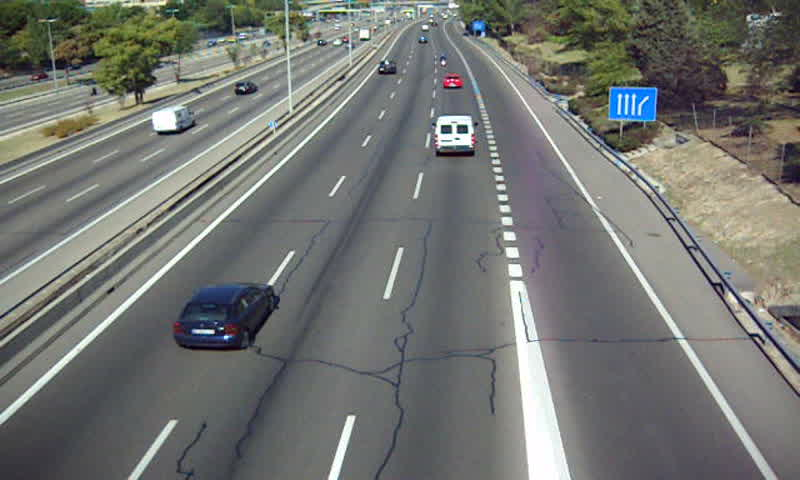car: (174, 282, 276, 350), (377, 60, 397, 76), (443, 75, 464, 89)
motorcycle: (437, 55, 449, 66)
van: (434, 116, 474, 155)
